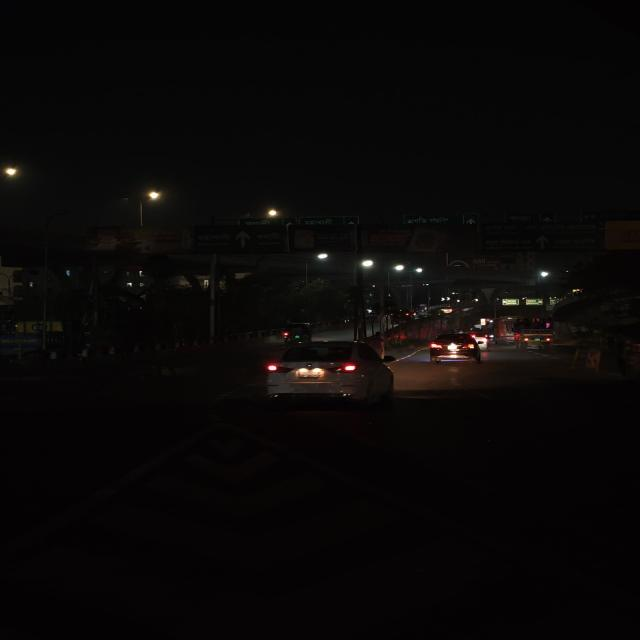bus: (492, 317, 554, 345)
car: (258, 338, 400, 410), (425, 331, 486, 365)
cng: (280, 321, 314, 345)
pickup_van: (516, 324, 554, 345)
